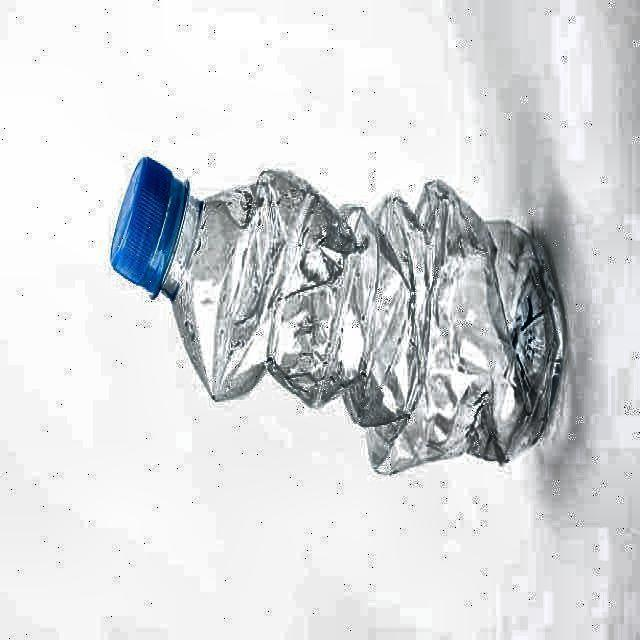plastic: (112, 159, 564, 472)
